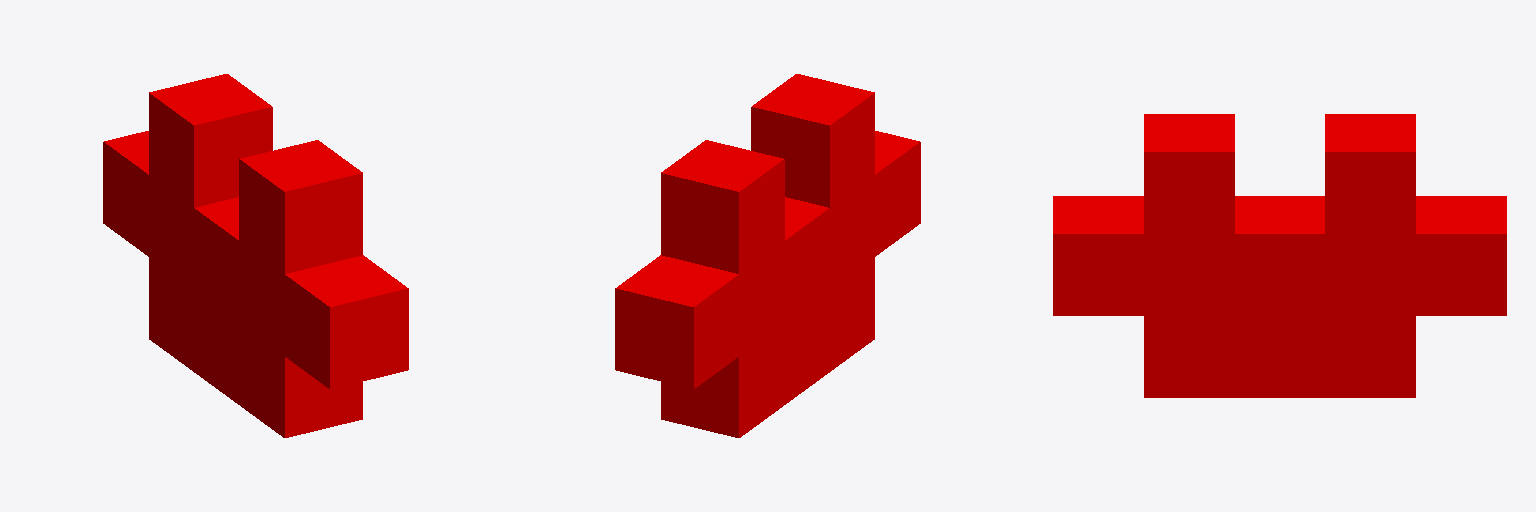
Rendered from flor.obj.
3 views of the same model, side by side, from view 1: azimuth 30°, elevation 25°; view 2: azimuth 150°, elevation 25°; view 3: azimuth 270°, elevation 25° (orthographic).
Size of the model in its own units: 0.5 by 1.5 by 2.5.